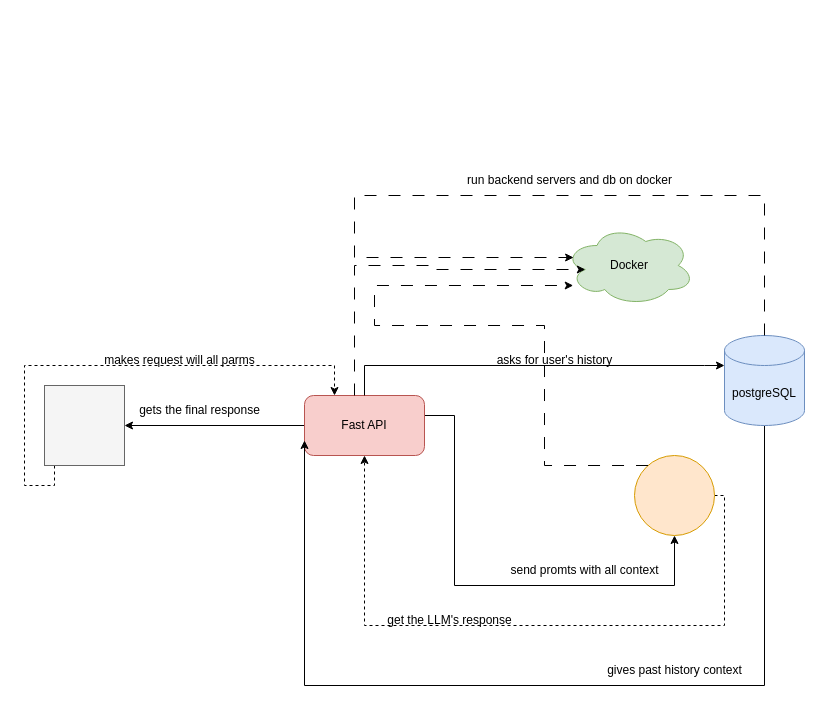
This 822x711 diagram has some shape labels left out. Each missing label, with the centre of its shape:
"LLM's / AI component" goes at [674,495].
"React JS" goes at [84,425].
